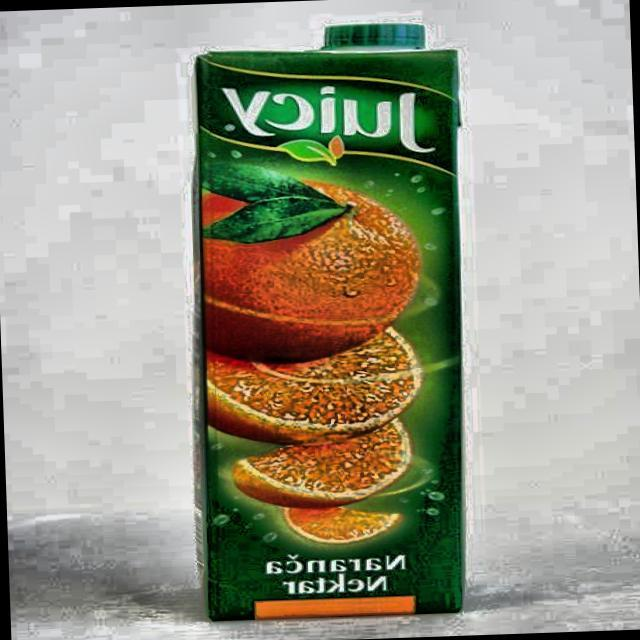cardboard: (179, 19, 479, 622)
